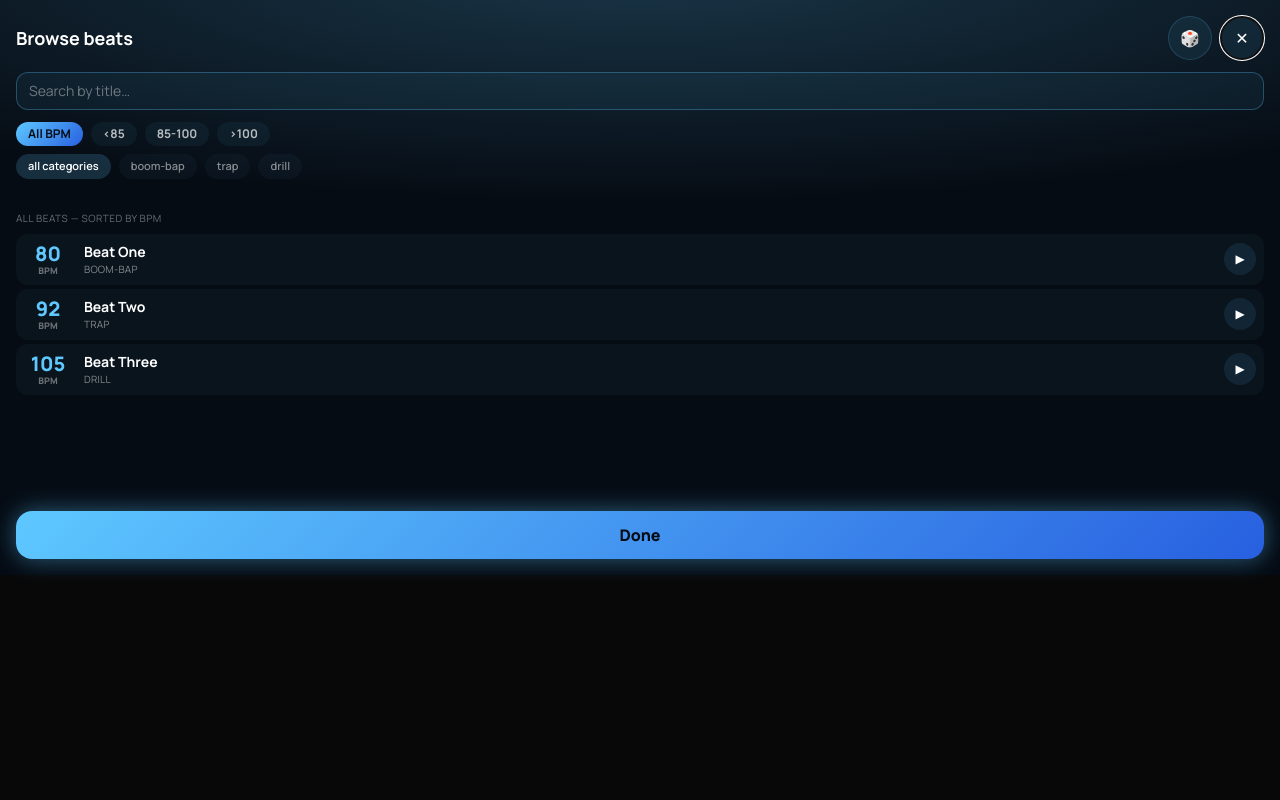
Test: BrowseBeats — filters & rendering › search input filters by title (case-insensitive substring)
Type "three" into the search field with placeholder "Search by title…" at (640, 91), box [16,72,1264,110]
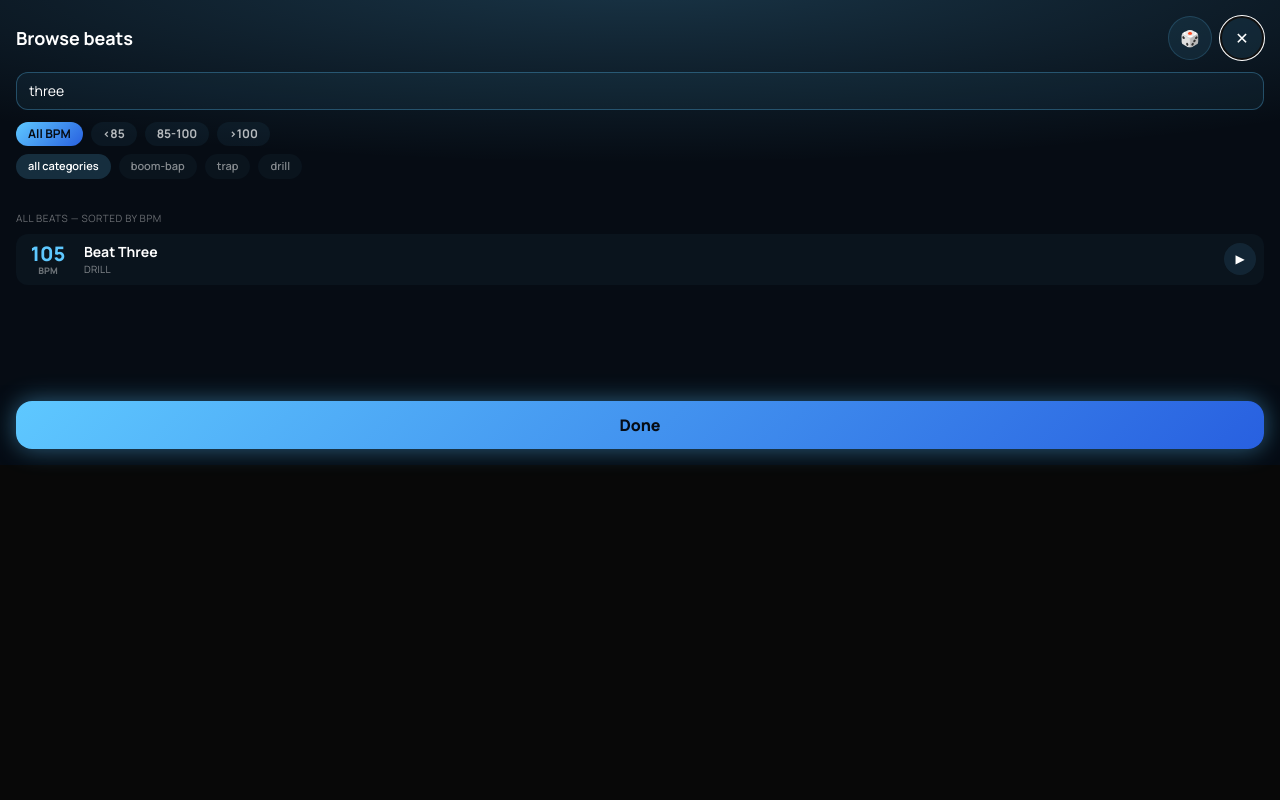
Expected: the text "Beat Three" is shown, [84,242,158,260]
Result: the button "Beat One" is gone
